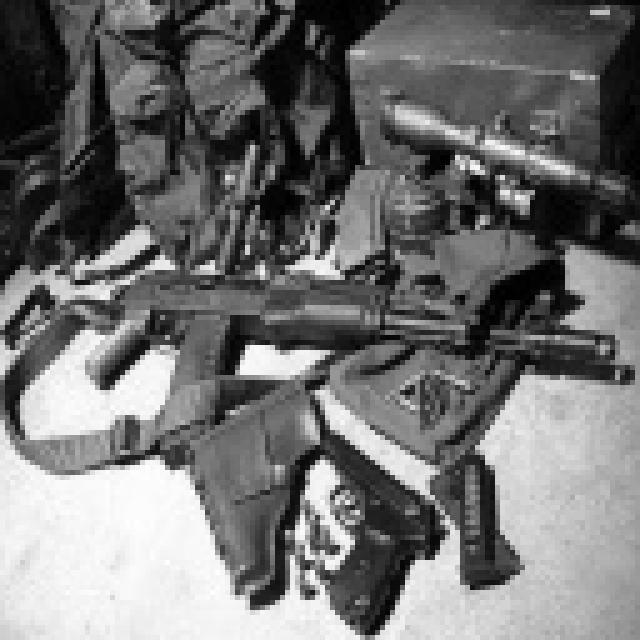Rifle: (0, 243, 624, 456), (296, 409, 456, 632)
